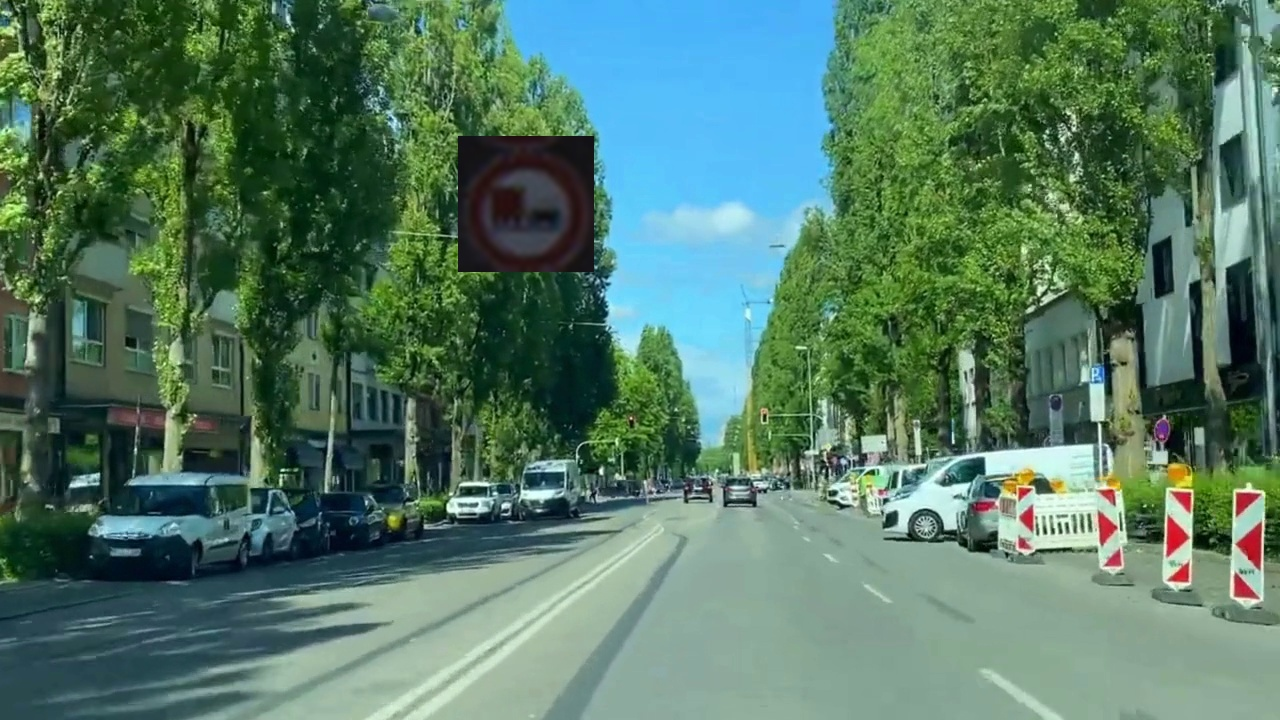No pass >3.5t: (458, 136, 594, 272)
